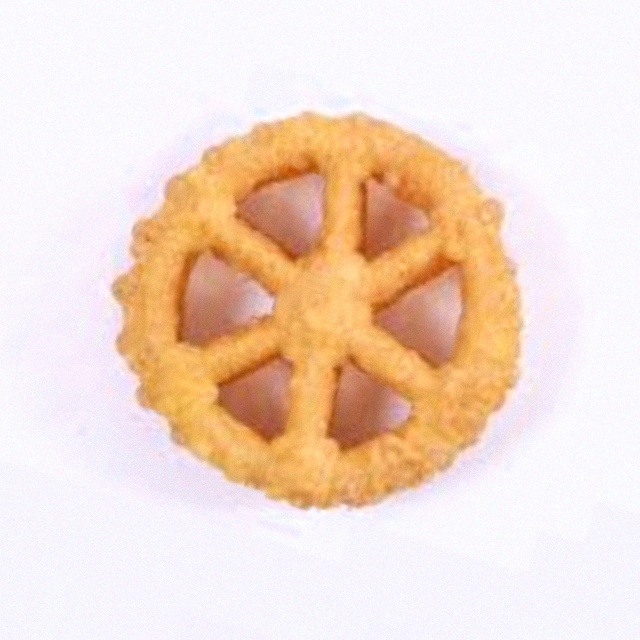Kokis: (126, 106, 514, 534)
